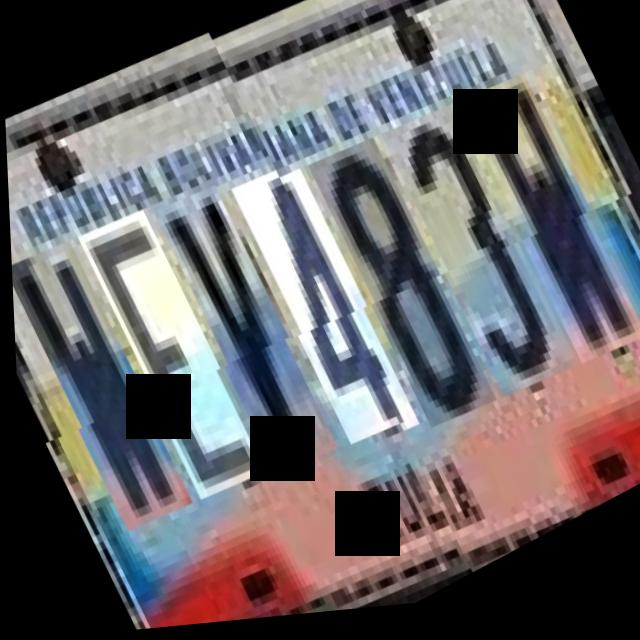3: (375, 91, 571, 411)
4: (229, 155, 417, 465)
8: (303, 124, 494, 441)
E: (77, 203, 268, 519)
V: (149, 173, 341, 496)
W: (452, 60, 640, 377), (9, 234, 195, 550)
